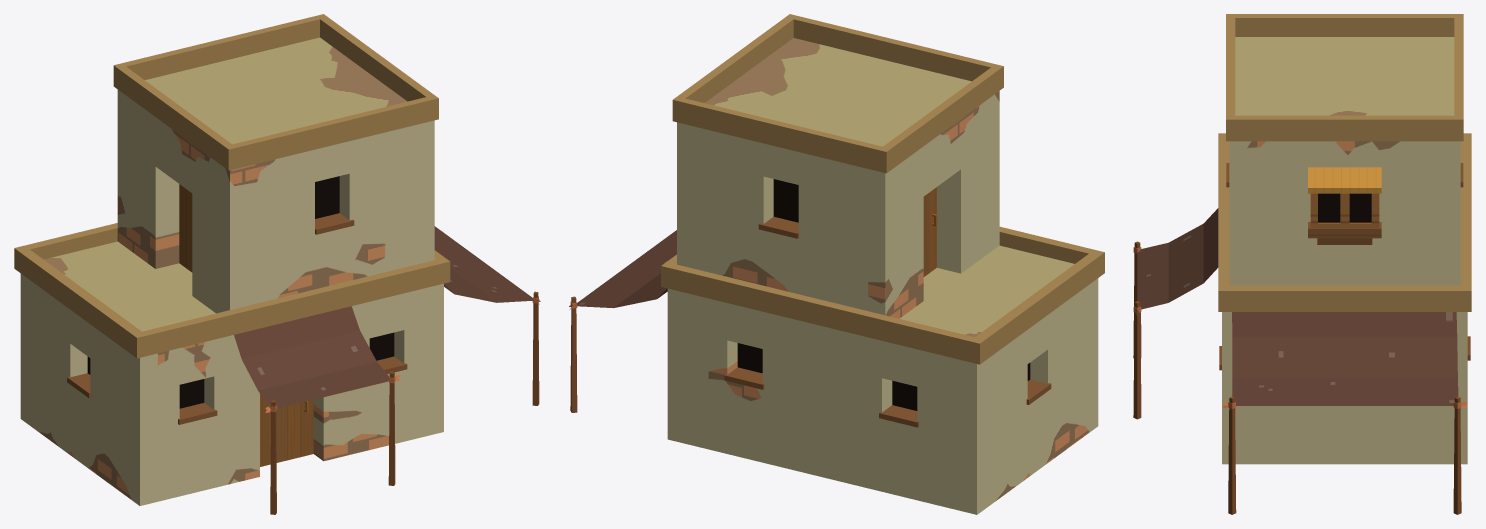
The model's file is Desert Building 06.fbx.
3 renders of one model, left to right at view 1: azimuth 30°, elevation 25°; view 2: azimuth 150°, elevation 25°; view 3: azimuth 270°, elevation 25°, orthographic. The views are drawn at different scales.
Parts seen in each view (by area): view 1: Desert_Building_06, Door; view 2: Desert_Building_06; view 3: Desert_Building_06.
Boxes of the visible parts, x1=… form: Desert_Building_06: x1=14, y1=14, x2=540, y2=514; Door: x1=260, y1=394, x2=313, y2=466; Desert_Building_06: x1=569, y1=14, x2=1104, y2=514; Desert_Building_06: x1=1133, y1=14, x2=1471, y2=514.
Size of the model in its own units: 860 by 669 by 597.
